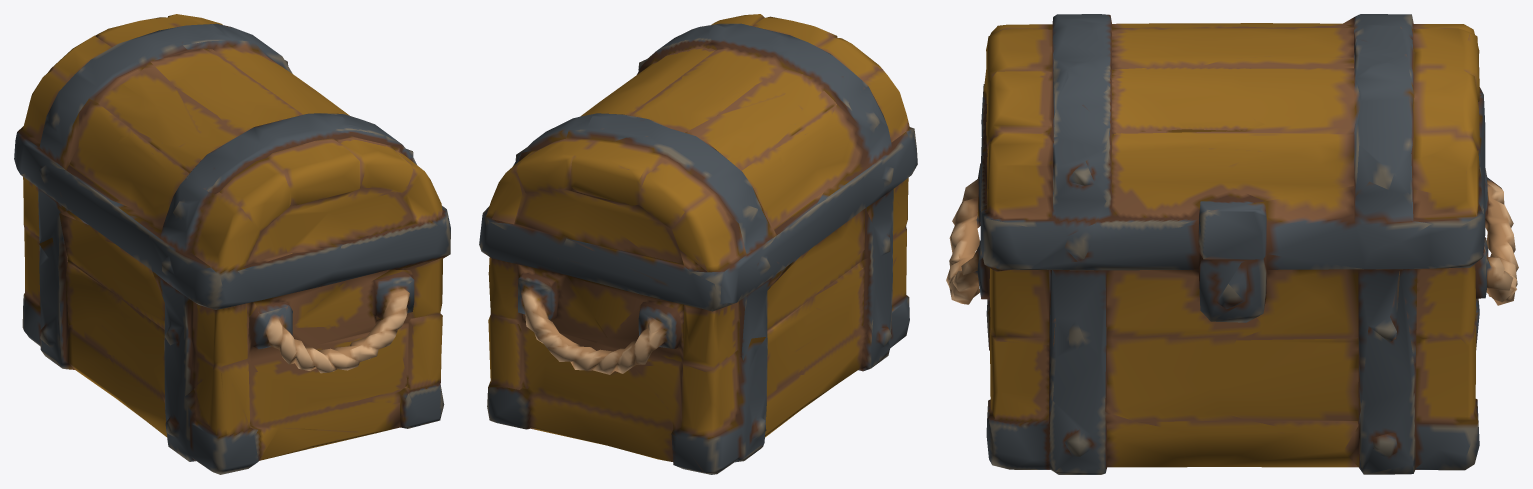
File: f-chest.glb
The picture shows the model from 3 angles, left to right: view 1: azimuth 30°, elevation 25°; view 2: azimuth 150°, elevation 25°; view 3: azimuth 270°, elevation 25°; orthographic projection. The views are drawn at different scales.
Parts seen in each view (by area): view 1: tripo_node_87c6676a-8aaf-421d-a7df-890eda75d6ae; view 2: tripo_node_87c6676a-8aaf-421d-a7df-890eda75d6ae; view 3: tripo_node_87c6676a-8aaf-421d-a7df-890eda75d6ae.
Boxes of the visible parts, x1,y1,x2,y2 form: tripo_node_87c6676a-8aaf-421d-a7df-890eda75d6ae: [14, 14, 450, 474]; tripo_node_87c6676a-8aaf-421d-a7df-890eda75d6ae: [479, 14, 917, 474]; tripo_node_87c6676a-8aaf-421d-a7df-890eda75d6ae: [946, 14, 1518, 474].
Bounding box in the file's own units: 0.6767 × 0.7192 × 1.
Materials: 1 (1 with a texture image).
